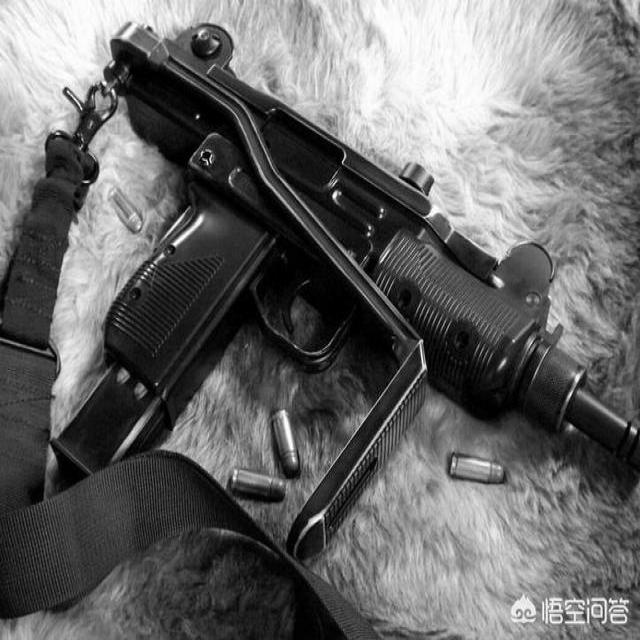gun: (47, 18, 638, 492)
